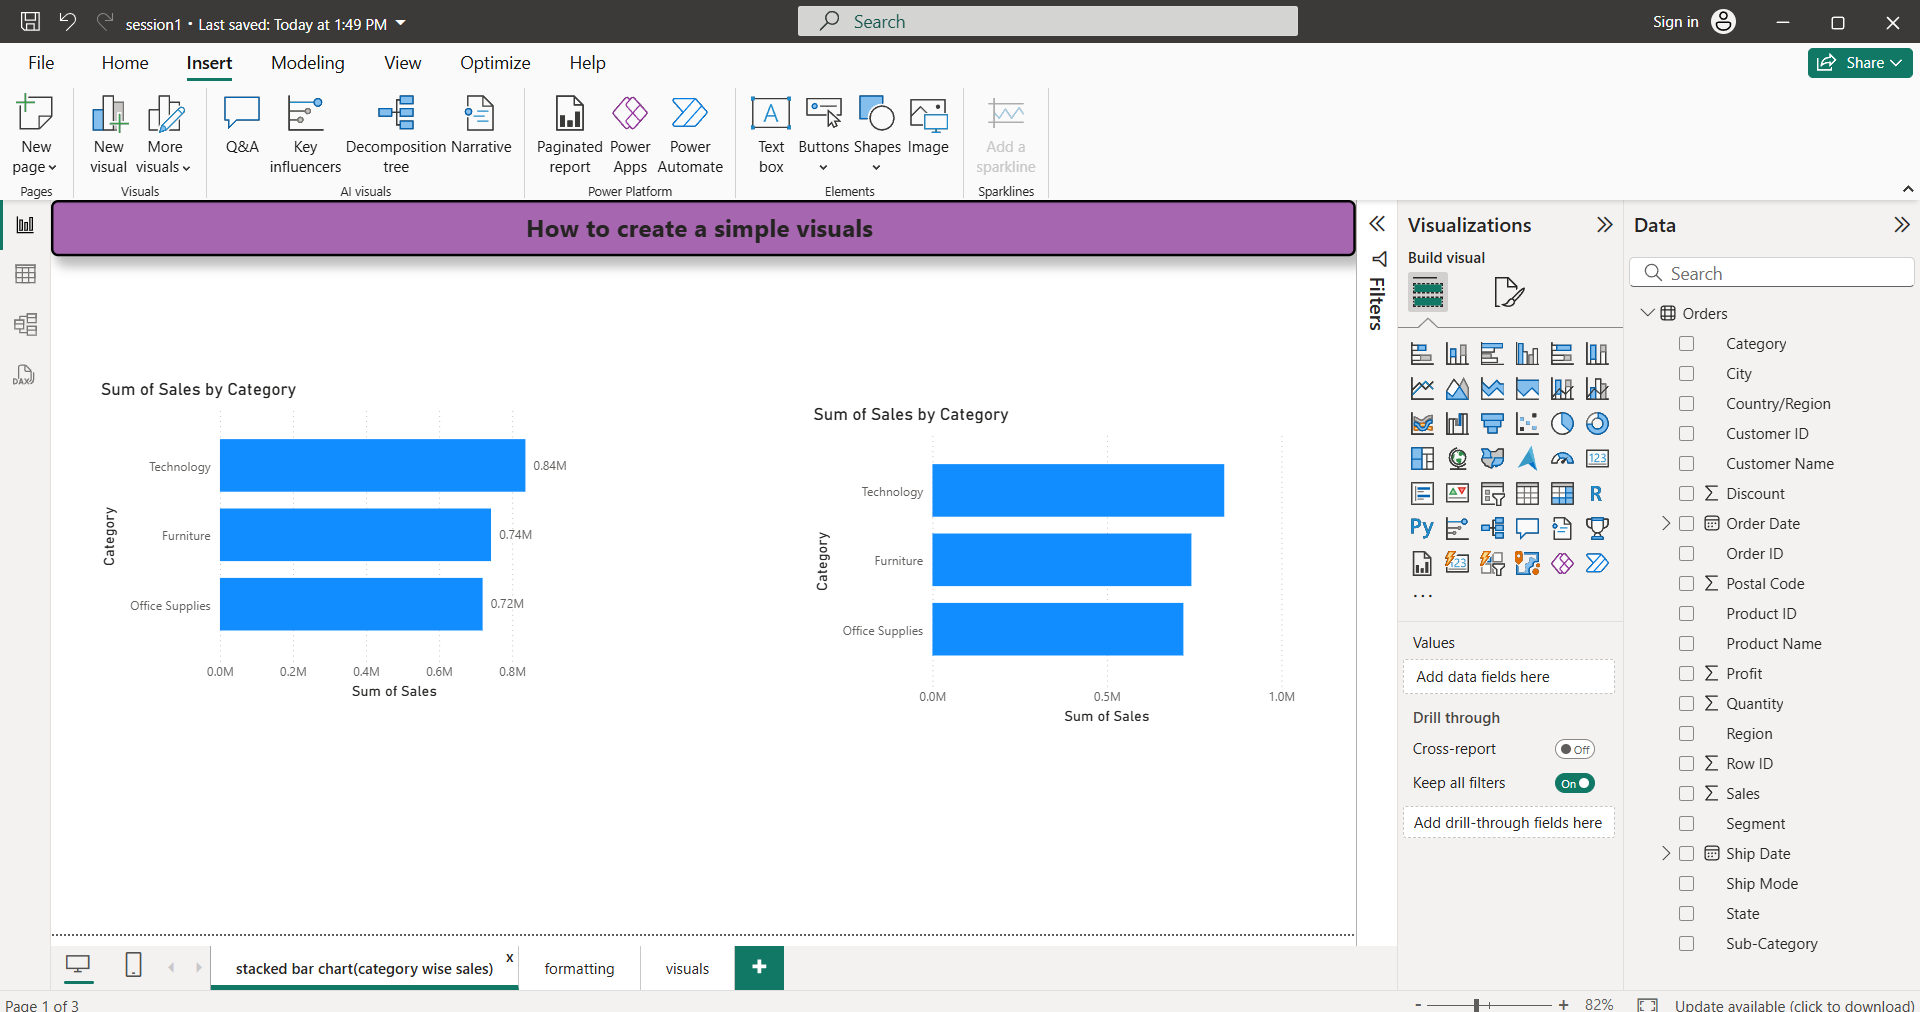

The dashboard page shown, as its layout file describes it:
{"tool":"powerbi","page":{"name":"stacked bar chart(category wise sales)","canvas":[1280,720],"ordinal":0},"visuals":[{"type":"barChart","fields":{"Category":["Orders.Category"],"Y":["Sum(Orders.Sales)"]},"box":[44.1,175.4,483.2,320.1],"z":0},{"type":"barChart","fields":{"Category":["Orders.Category"],"Y":["Sum(Orders.Sales)"]},"box":[743.1,199.9,483.2,320.1],"z":1},{"type":"textbox","box":[0,0,1280.2,55.2],"z":2}]}

Visuals, with their boxes on the page's 1280x720 design canvas (x1, y1, x2, y2). These are canvas units, not pixel positions in the 1920x1012 screenshot, which may show the page scaled, cropped or inside an application window:
barChart - Orders.Category x Sum(Orders.Sales): 44:175:527:496
barChart - Orders.Category x Sum(Orders.Sales): 743:200:1226:520
textbox: 0:0:1280:55
